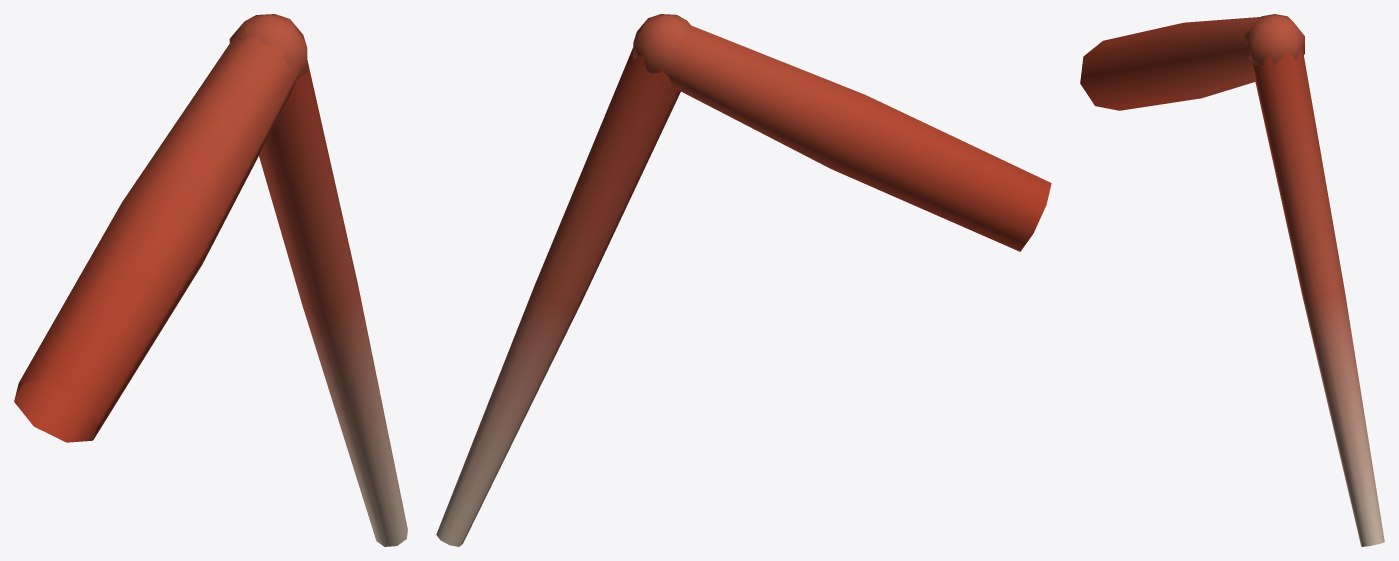
Rendered from Yadokari_Leg1.fbx.
3 renders of one model, left to right at view 1: azimuth 30°, elevation 25°; view 2: azimuth 150°, elevation 25°; view 3: azimuth 270°, elevation 25°, orthographic. The views are drawn at different scales.
Visible parts, largest first — view 1: Yadokari_Leg1; view 2: Yadokari_Leg1; view 3: Yadokari_Leg1.
Boxes of the visible parts, x1,y1,x2,y2 form: Yadokari_Leg1: (14,14,407,546); Yadokari_Leg1: (436,14,1051,546); Yadokari_Leg1: (1080,14,1384,546).
Size of the model in its own units: 0.2911 by 0.3122 by 0.1862.
